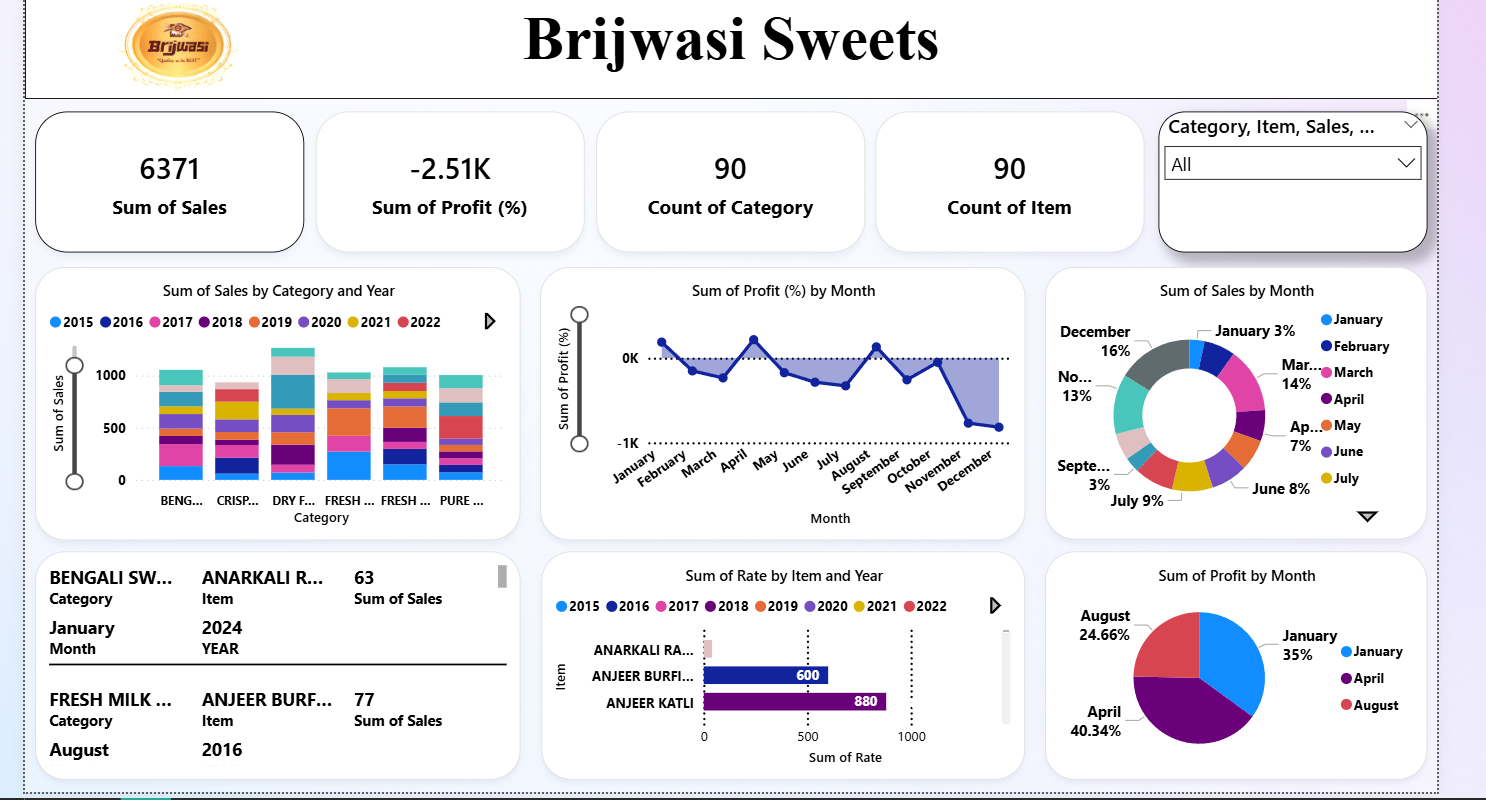

What the dashboard file says about the page in this screenshot:
{"tool":"powerbi","page":{"name":"Page 1","canvas":[1280,720],"ordinal":0},"visuals":[{"type":"textbox","box":[0,0,1280.4,90.8],"z":0},{"type":"image","box":[0,0,277.6,90.8],"z":1000},{"type":"card","fields":{"Values":["Sum(Sweets_Menu_With_Profit.Sales)"]},"box":[9,102.3,244.3,127.9],"z":2000},{"type":"card","fields":{"Values":["Sum(Sweets_Menu_With_Profit.Profit (%))"]},"box":[263.5,102.3,244.3,127.9],"z":3000},{"type":"card","fields":{"Values":["CountNonNull(Sweets_Menu_With_Profit.Category)"]},"box":[518,102.3,244.3,127.9],"z":4000},{"type":"card","fields":{"Values":["CountNonNull(Sweets_Menu_With_Profit.Item)"]},"box":[771.3,102.3,244.3,127.9],"z":5000},{"type":"slicer","fields":{"Values":["Sweets_Menu_With_Profit.Category","Sweets_Menu_With_Profit.Item","Sweets_Menu_With_Profit.Sales","Sweets_Menu_With_Profit.Rate"]},"box":[1027.1,102.3,244.3,127.9],"z":6000},{"type":"columnChart","fields":{"Category":["Sweets_Menu_With_Profit.Category"],"Y":["Sum(Sweets_Menu_With_Profit.Sales)"],"Series":["total_year_90_rows.TOTAL_YEAR.Variation.Date Hierarchy.Year"]},"box":[9,244.3,440,248.1],"z":7000},{"type":"areaChart","fields":{"Y":["Sum(Sweets_Menu_With_Profit.Profit (%))"],"Category":["total_year_90_rows.TOTAL_YEAR.Variation.Date Hierarchy.Month"]},"box":[467.5,243.7,440,248],"z":8000},{"type":"multiRowCard","fields":{"Values":["Sweets_Menu_With_Profit.Category","Sweets_Menu_With_Profit.Item","Sum(Sweets_Menu_With_Profit.Sales)","total_year_90_rows.TOTAL_YEAR.Variation.Date Hierarchy.Month","total_year_90_rows.YEAR"]},"box":[9,501.4,440,207.2],"z":9000},{"type":"barChart","fields":{"Category":["Sweets_Menu_With_Profit.Item"],"Y":["Sum(Sweets_Menu_With_Profit.Rate)"],"Series":["total_year_90_rows.TOTAL_YEAR.Variation.Date Hierarchy.Year"]},"box":[468.2,501.4,438.7,207.2],"z":10000},{"type":"donutChart","fields":{"Y":["Sum(Sweets_Menu_With_Profit.Sales)"],"Series":["total_year_90_rows.TOTAL_YEAR.Variation.Date Hierarchy.Month"]},"box":[924.8,244.3,346.6,246.9],"z":11000},{"type":"pieChart","title":"Sum of Profit by Month","fields":{"Y":["Sum(Sweets_Menu_With_Profit.Profit (%))"],"Category":["total_year_90_rows.TOTAL_YEAR.Variation.Date Hierarchy.Month"]},"box":[924.8,501.4,346.6,207.2],"z":12000}]}

Visuals, with their boxes on the page's 1280x720 design canvas (x1, y1, x2, y2). These are canvas units, not pixel positions in the 1486x800 screenshot, which may show the page scaled, cropped or inside an application window:
textbox: bbox=(0, 0, 1280, 91)
image: bbox=(0, 0, 278, 91)
card - Sum(Sweets_Menu_With_Profit.Sales): bbox=(9, 102, 253, 230)
card - Sum(Sweets_Menu_With_Profit.Profit (%)): bbox=(264, 102, 508, 230)
card - CountNonNull(Sweets_Menu_With_Profit.Category): bbox=(518, 102, 762, 230)
card - CountNonNull(Sweets_Menu_With_Profit.Item): bbox=(771, 102, 1016, 230)
slicer - Sweets_Menu_With_Profit.Category x Sweets_Menu_With_Profit.Item: bbox=(1027, 102, 1271, 230)
columnChart - Sweets_Menu_With_Profit.Category x Sum(Sweets_Menu_With_Profit.Sales): bbox=(9, 244, 449, 492)
areaChart - Sum(Sweets_Menu_With_Profit.Profit (%)) x total_year_90_rows.TOTAL_YEAR.Variation.Date Hierarchy.Month: bbox=(468, 244, 908, 492)
multiRowCard - Sweets_Menu_With_Profit.Category x Sweets_Menu_With_Profit.Item: bbox=(9, 501, 449, 709)
barChart - Sweets_Menu_With_Profit.Item x Sum(Sweets_Menu_With_Profit.Rate): bbox=(468, 501, 907, 709)
donutChart - Sum(Sweets_Menu_With_Profit.Sales) x total_year_90_rows.TOTAL_YEAR.Variation.Date Hierarchy.Month: bbox=(925, 244, 1271, 491)
"Sum of Profit by Month" pieChart: bbox=(925, 501, 1271, 709)
